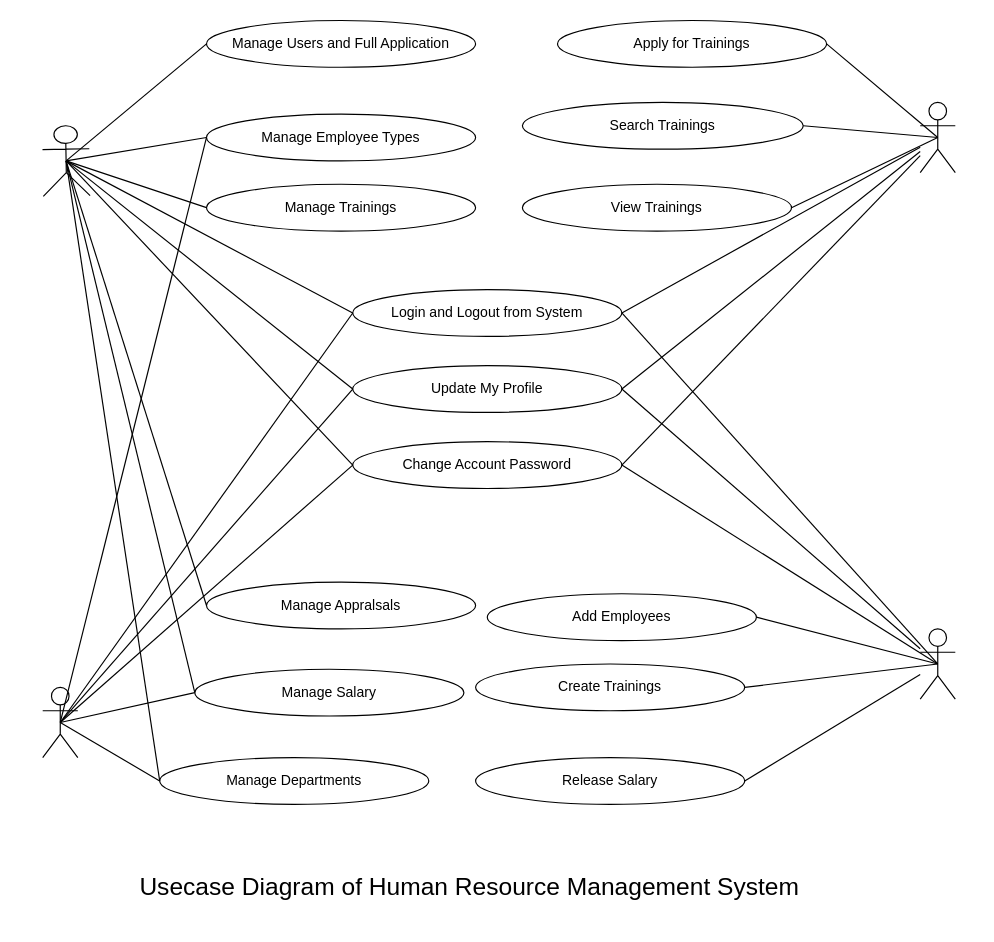
The diagram is 994 pixels wide and 942 high, and some of its shapes have lost their labels. Here are the shapes that lost their labels. From the top down, the centre of each, then its label:
At pixel 937 137: "Employee".
At pixel 65 160: "Super Admin".
At pixel 937 663: "Department".
At pixel 60 722: "System User".
